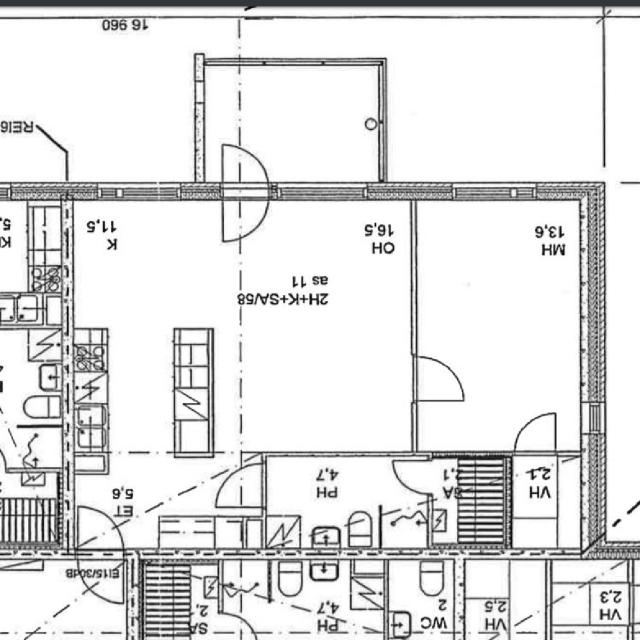door: (222, 182, 268, 243), (222, 138, 268, 199), (78, 548, 124, 604), (78, 505, 124, 560), (216, 464, 266, 508), (412, 358, 462, 401), (514, 413, 555, 456), (394, 462, 432, 493)
